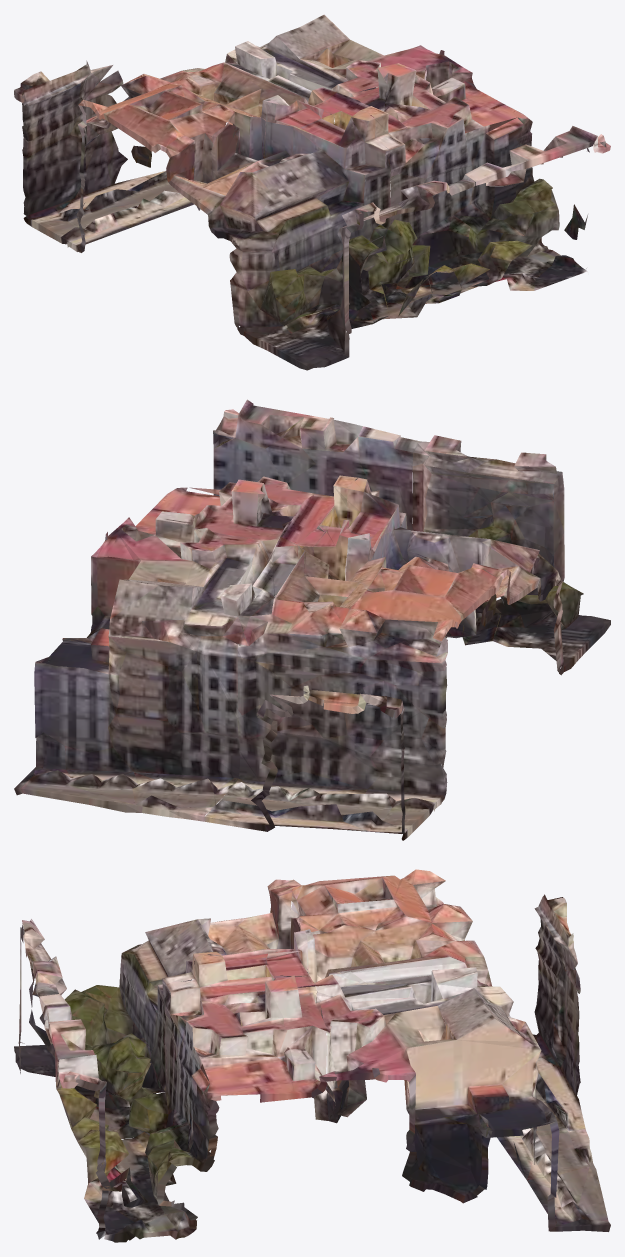
3 renders of one model, top to bottom at view 1: azimuth 30°, elevation 25°; view 2: azimuth 150°, elevation 25°; view 3: azimuth 270°, elevation 25°, orthographic. The views are drawn at different scales.
Parts seen in each view (by area): view 1: Mesh_0; view 2: Mesh_0; view 3: Mesh_0.
Boxes of the visible parts, x1=… form: Mesh_0: x1=14, y1=14, x2=610, y2=370; Mesh_0: x1=14, y1=399, x2=610, y2=840; Mesh_0: x1=14, y1=869, x2=610, y2=1242.
Bounding box in the file's own units: 66.54 × 32.51 × 82.56.
1 material, 1 textured.
